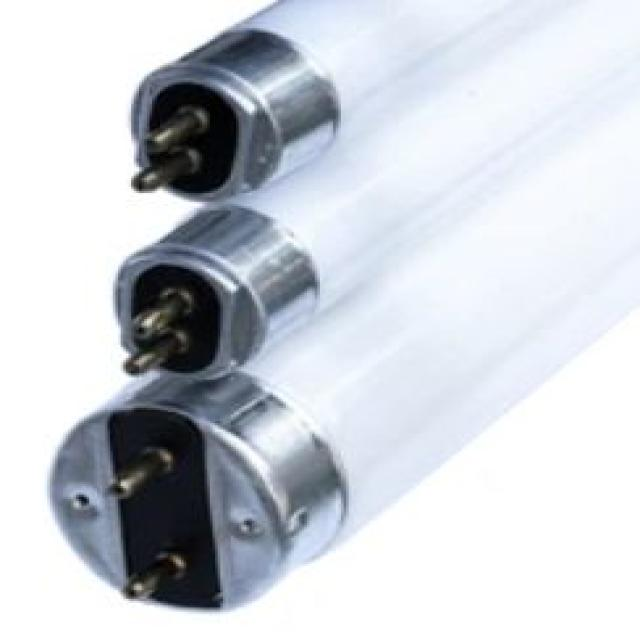electronic: (45, 0, 638, 612), (44, 364, 349, 610), (110, 202, 320, 380)
